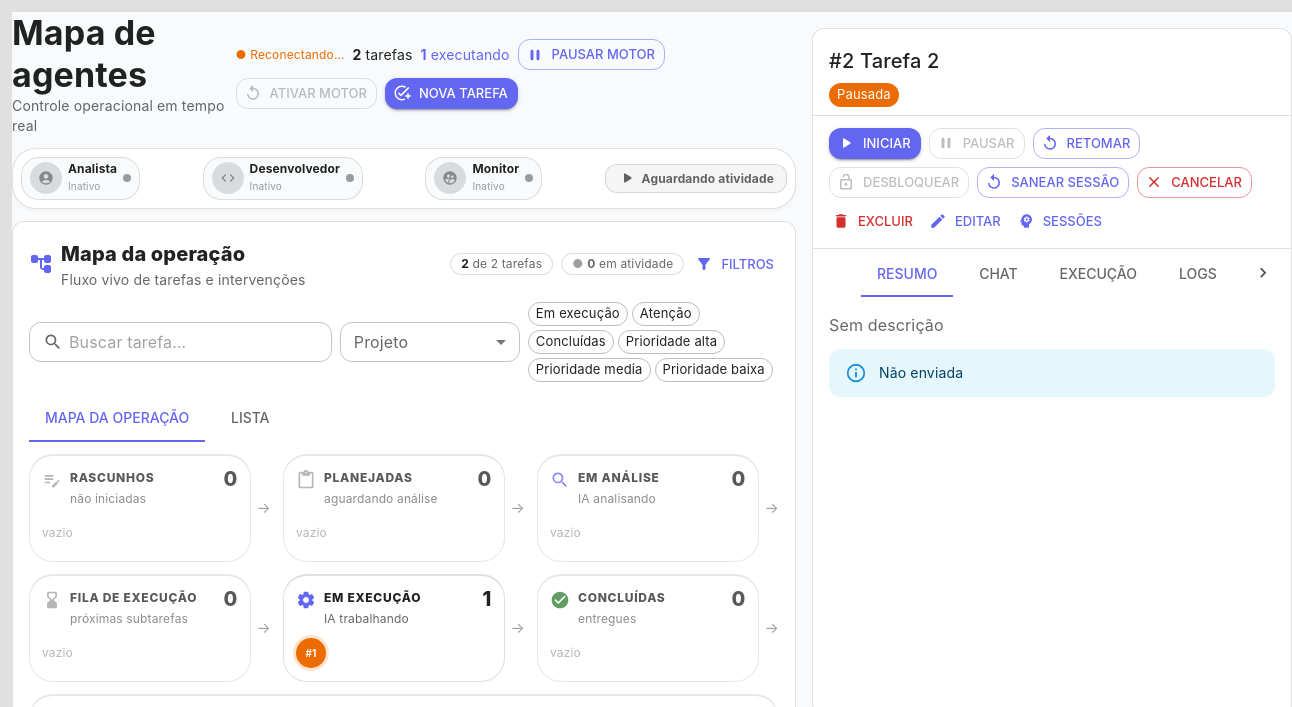
Scenario: OperationMapScreen — preservação de seleção em atualizações › preserva seleção atual quando tarefa continua presente
Check: the element with test id "detail-content" shows "Tarefa 2", box x1=860 y1=49 x2=939 y2=73
# Usuário clica na tarefa 1
Step 1. Click the button with test id "operation-map-task-1" → (311, 653), box x1=296 y1=638 x2=326 y2=668
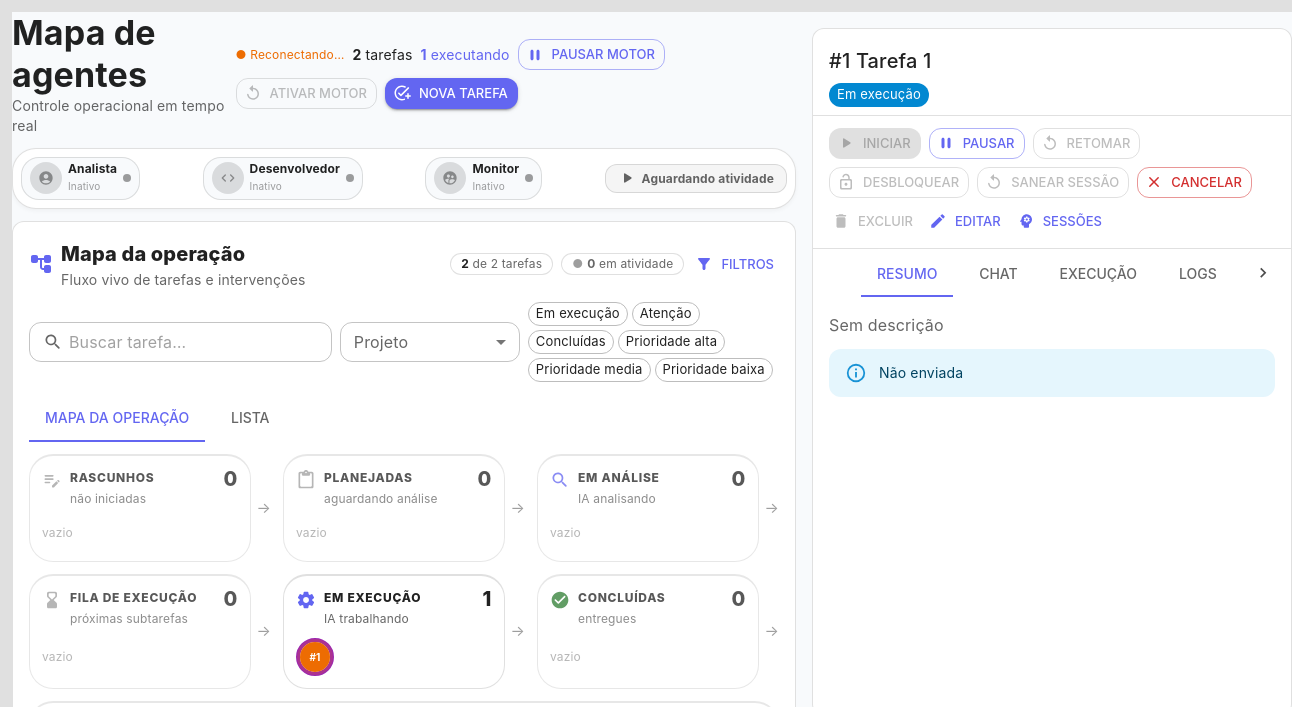
Check: the element with test id "detail-content" shows "Tarefa 1", box x1=856 y1=49 x2=931 y2=73
